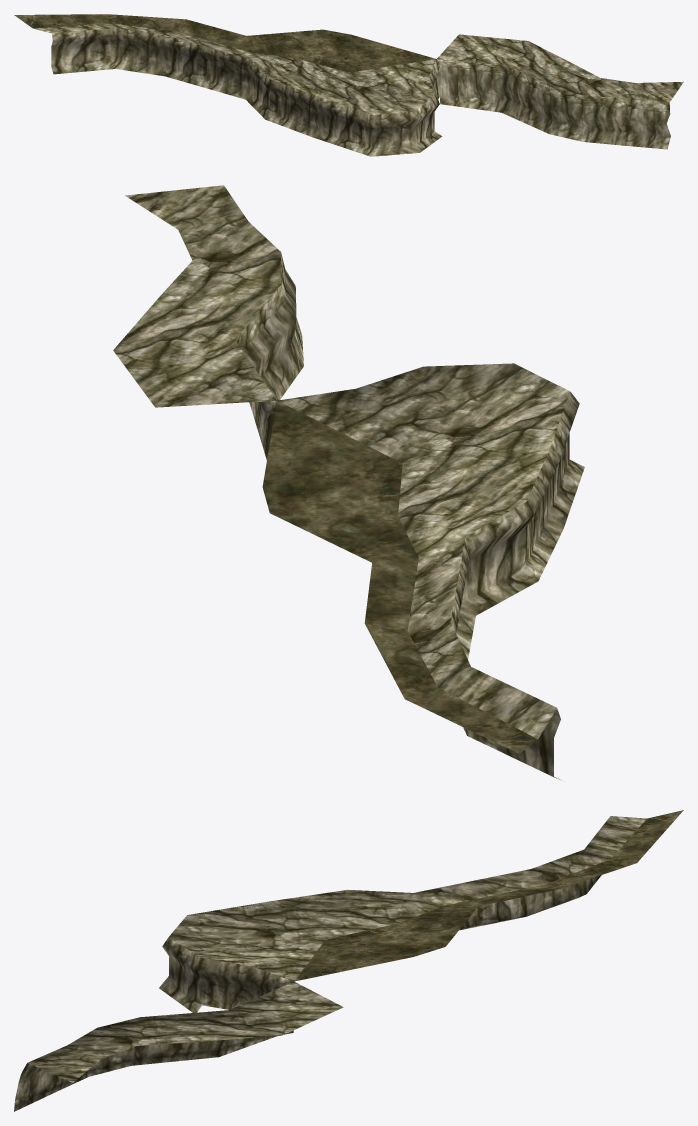
File: CB_NEWPLAYSURFACE_CB_PLAYSURFACE83.fbx
3 views of the same model, one above another, from view 1: azimuth 30°, elevation 25°; view 2: azimuth 150°, elevation 25°; view 3: azimuth 270°, elevation 25° (orthographic). The views are drawn at different scales.
Visible parts, largest first — view 1: CB_NEWPLAYSURFACE_CB_PLAYSURFACE83; view 2: CB_NEWPLAYSURFACE_CB_PLAYSURFACE83; view 3: CB_NEWPLAYSURFACE_CB_PLAYSURFACE83.
Part boxes in pixels (<box>): CB_NEWPLAYSURFACE_CB_PLAYSURFACE83: <box>14,14,683,156</box>; CB_NEWPLAYSURFACE_CB_PLAYSURFACE83: <box>113,185,584,780</box>; CB_NEWPLAYSURFACE_CB_PLAYSURFACE83: <box>14,810,683,1111</box>.
Bounding box in the file's own units: 376009 × 34736 × 389175.
Materials: 3 (3 with a texture image).
